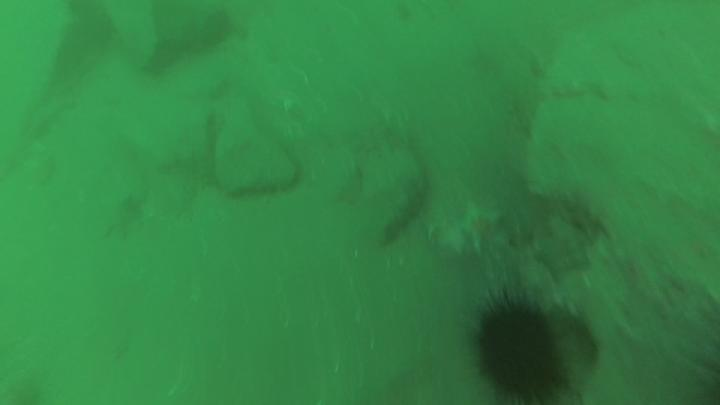echinus: (474, 297, 568, 405)
starfish: (457, 200, 516, 254)
